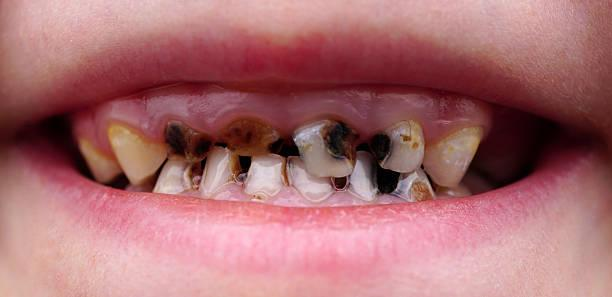Caries: (159, 115, 215, 167), (218, 111, 277, 156), (318, 115, 364, 168), (222, 149, 260, 188), (368, 168, 410, 200), (369, 128, 403, 167), (323, 167, 353, 194)
